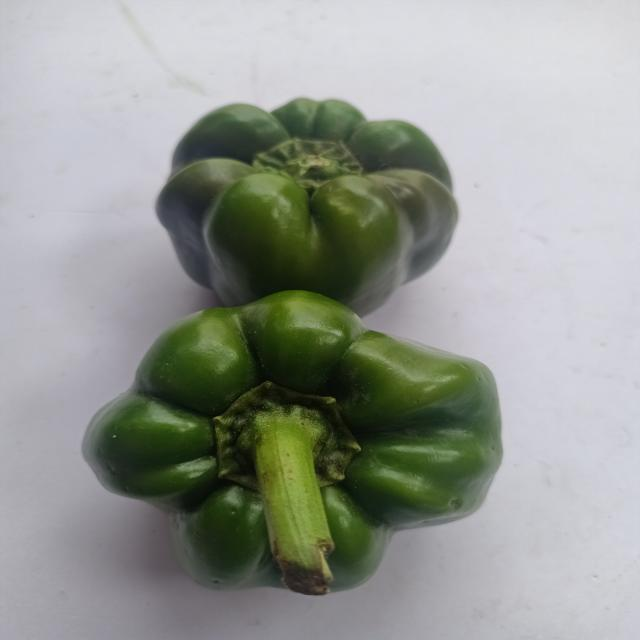Capsicum: (67, 288, 518, 606), (129, 91, 478, 318)
